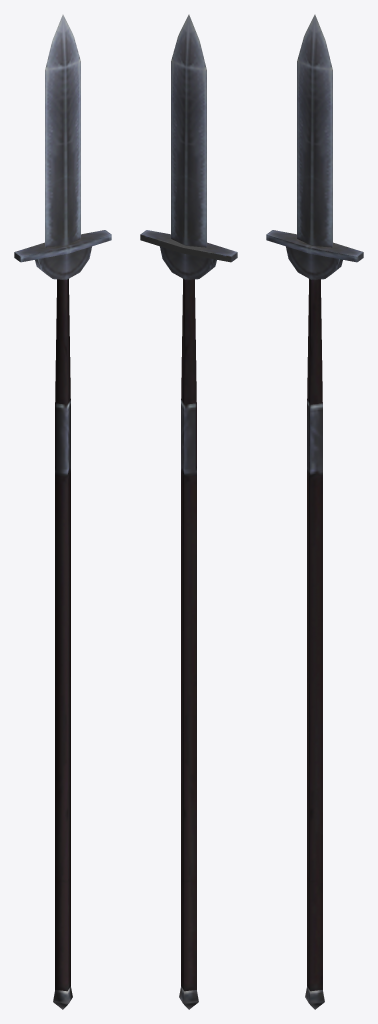
File: Polearm07.FBX
3 renders of one model, left to right at view 1: azimuth 30°, elevation 25°; view 2: azimuth 150°, elevation 25°; view 3: azimuth 330°, elevation 25°, orthographic.
Parts seen in each view (by area): view 1: Polearm07; view 2: Polearm07; view 3: Polearm07.
Boxes of the visible parts, <box> form: Polearm07: <box>14,14,111,1009</box>; Polearm07: <box>140,14,237,1009</box>; Polearm07: <box>266,14,363,1009</box>.
Size of the model in its own units: 22.56 by 236 by 5.29.
